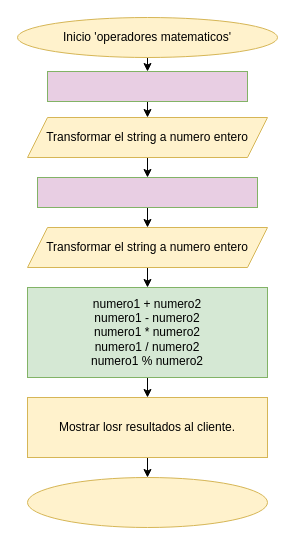
This 295x545 diagram has some shape labels left out. Here are the shapes that lost their labels. From the top down, the centre of each, then its label:
At point 147,86: "Solicitar primer numero al usuario.".
At point 147,192: "Solicitar segundo numero al usuario.".
At point 147,502: "fin de 'operadores matematicos '".
